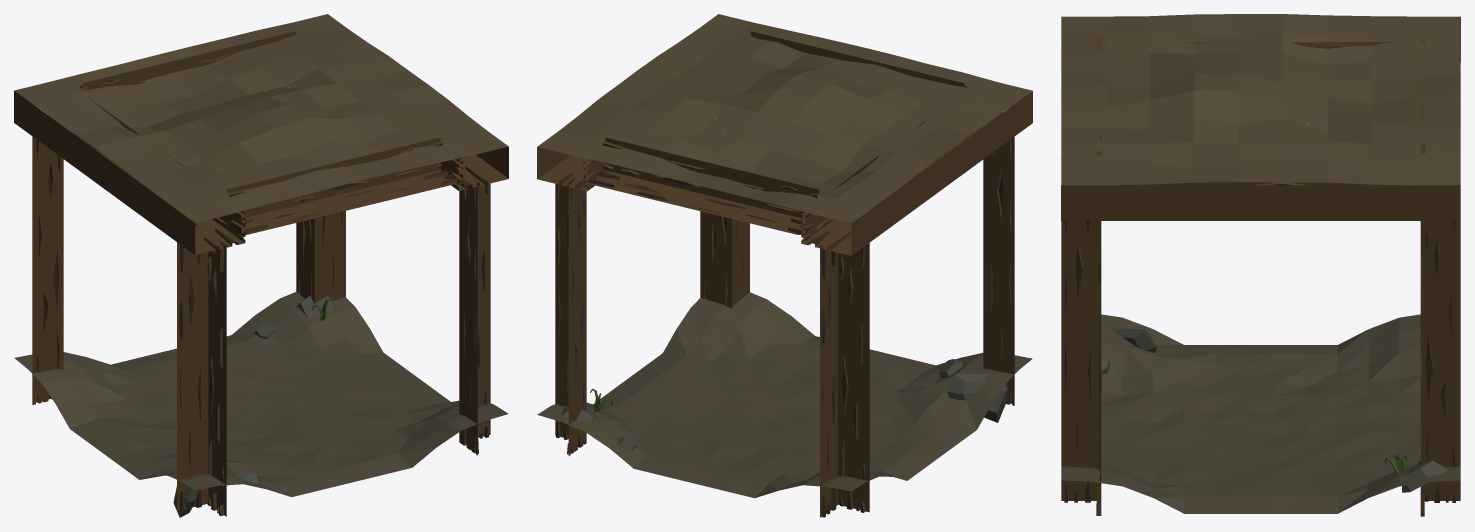
The model's file is Basement_Var3.glb.
3 views of the same model, side by side, from view 1: azimuth 30°, elevation 25°; view 2: azimuth 150°, elevation 25°; view 3: azimuth 270°, elevation 25° (orthographic). The views are drawn at different scales.
Parts seen in each view (by area): view 1: Basement_Var3.001; view 2: Basement_Var3.001; view 3: Basement_Var3.001.
Part boxes in pixels (x1=…): Basement_Var3.001: x1=14, y1=14, x2=508, y2=517; Basement_Var3.001: x1=537, y1=14, x2=1032, y2=517; Basement_Var3.001: x1=1061, y1=14, x2=1460, y2=516.
Size of the model in its own units: 4 by 4.06 by 4.
Materials: 5 (5 with a texture image).
